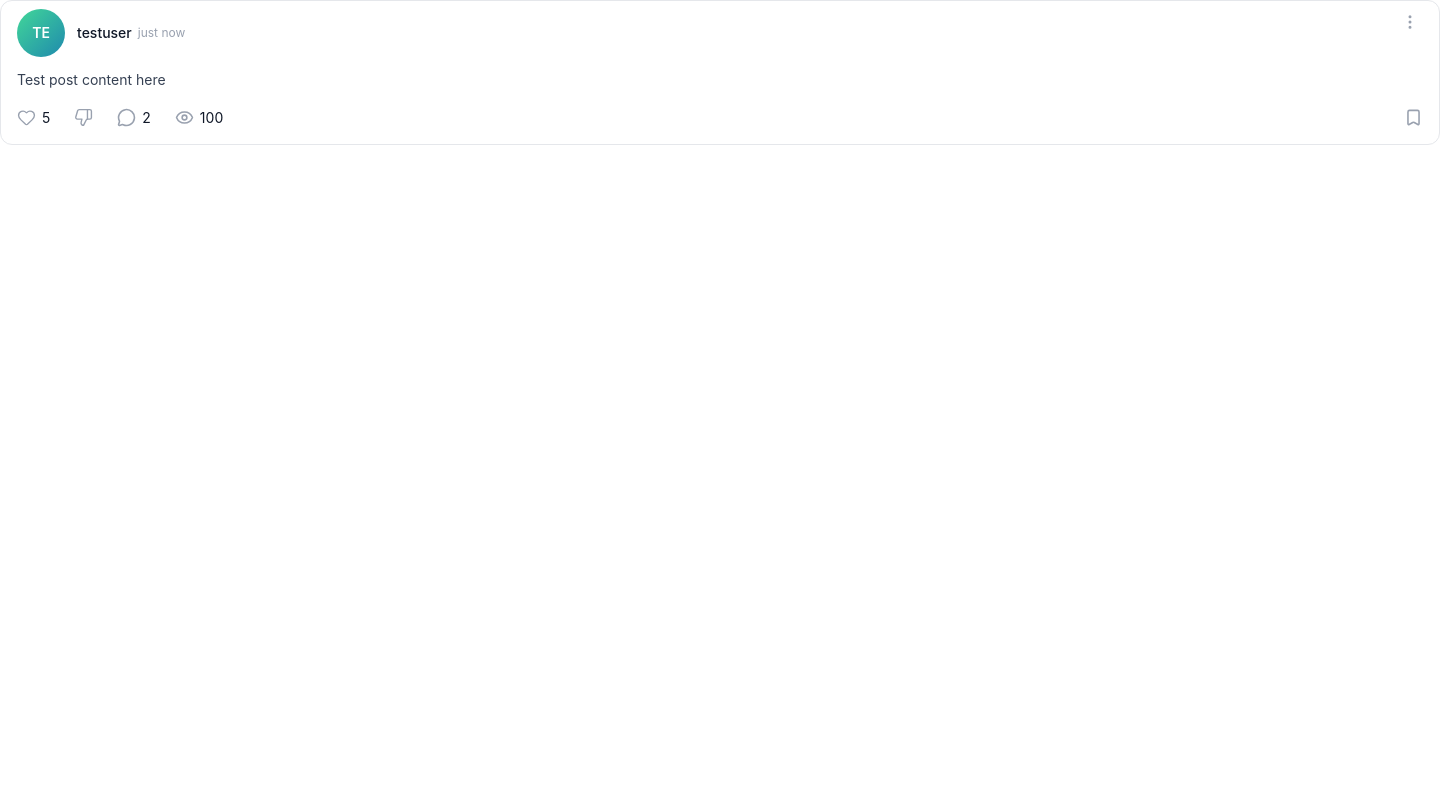
PostCard › shows edit modal on Edit click
Click the button named "Post options".
click(1410, 22)  # box [1397,9,1423,35]
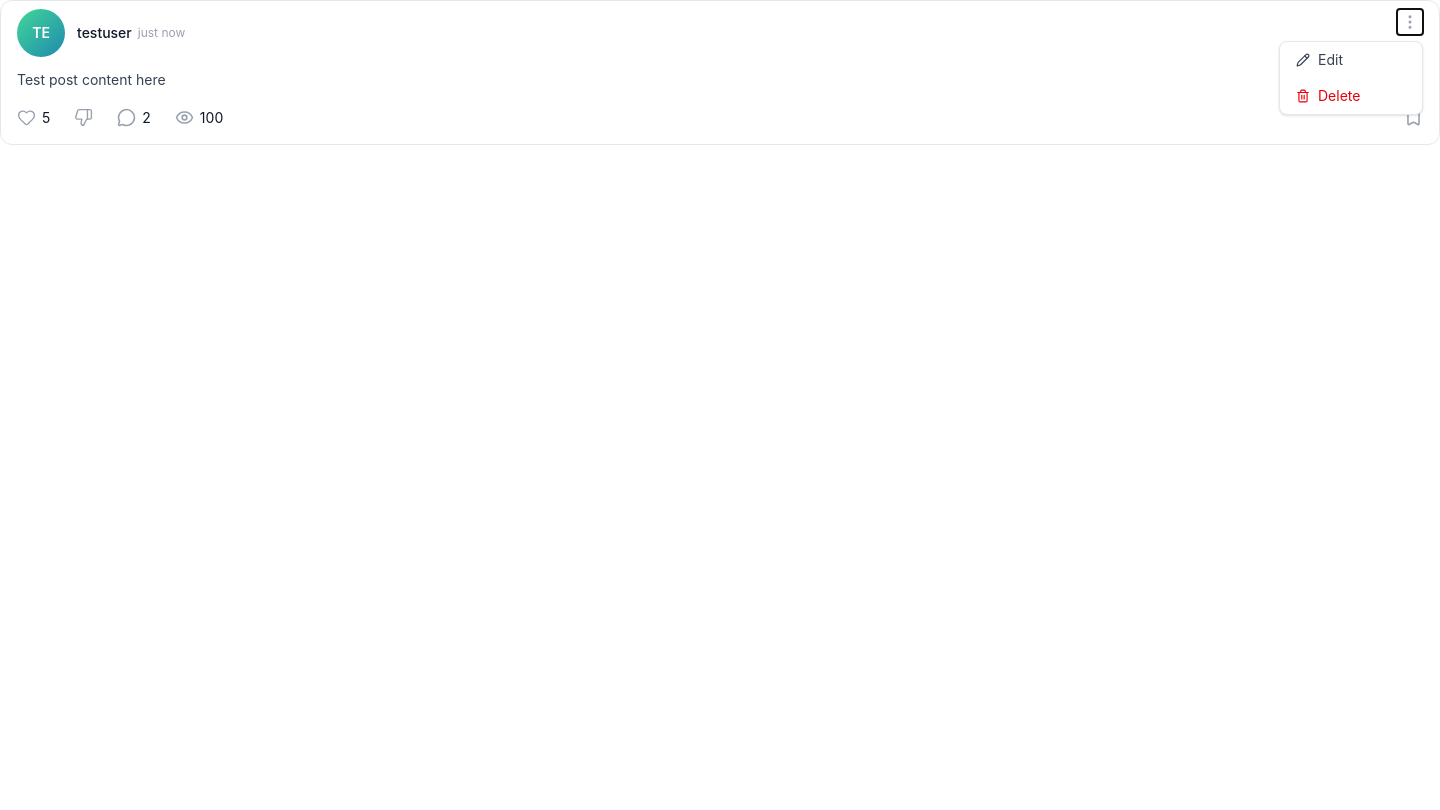
Click the button "Edit".
click(1351, 60)  # box [1280,42,1422,78]
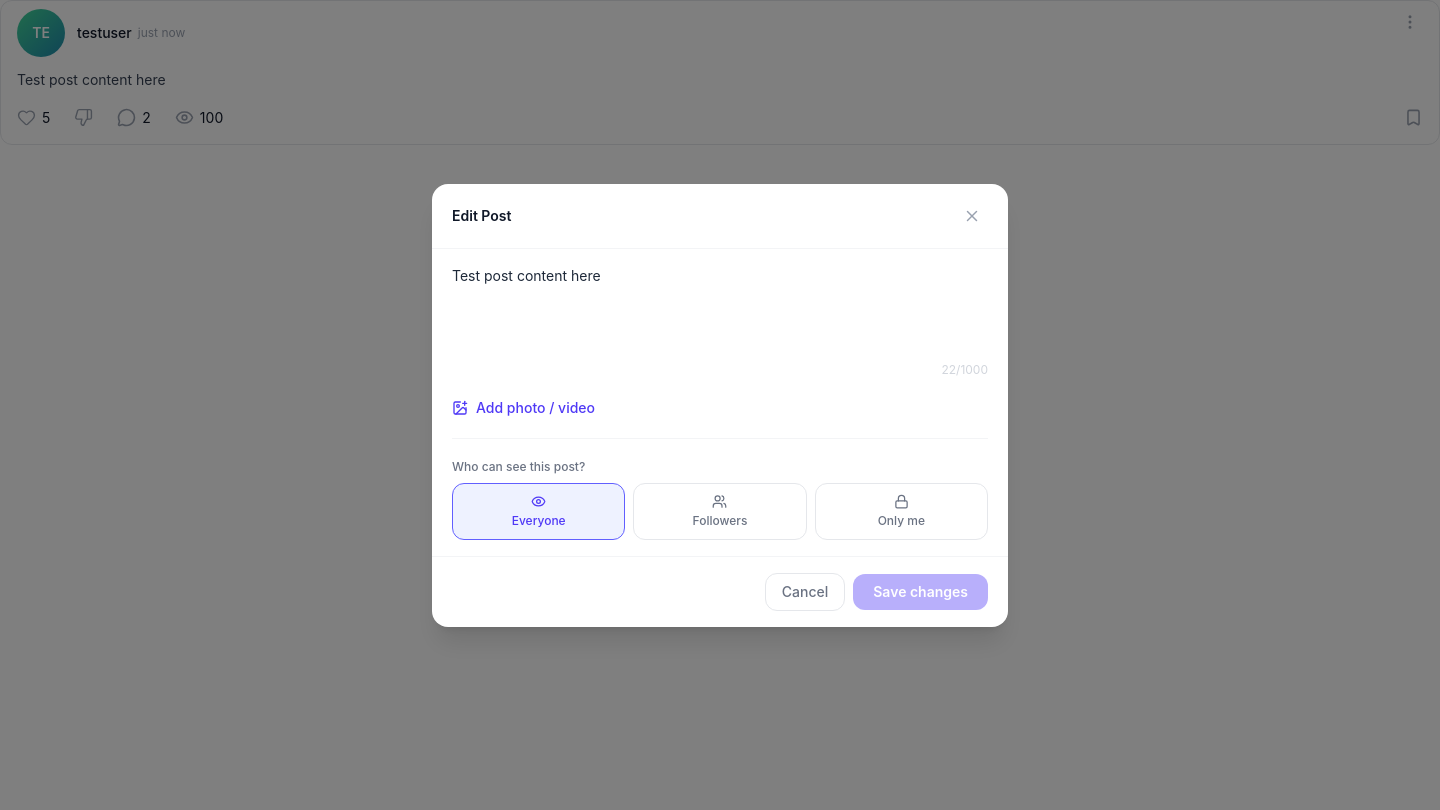
Check: the text box showing "Test post content here" is shown, box [452,264,988,356]
Check: the button "Save changes" is shown, box [853,574,988,610]
Check: the button "Cancel" is shown, box [765,572,845,610]
